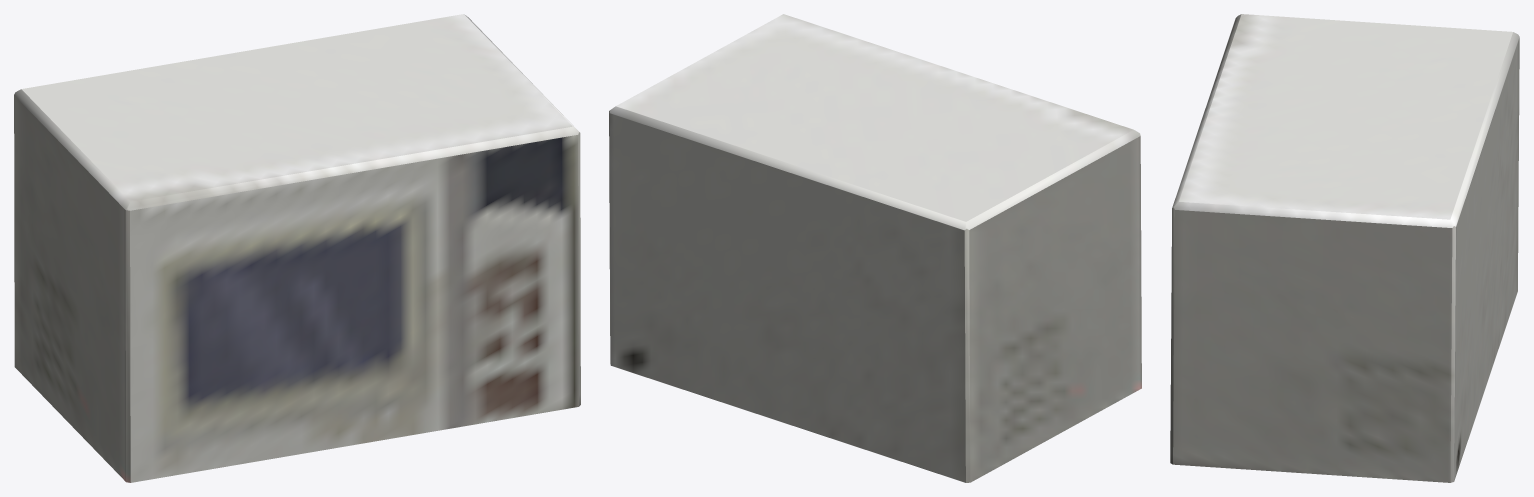
Rendered from PA_Microwave1.fbx.
3 renders of one model, left to right at view 1: azimuth 30°, elevation 25°; view 2: azimuth 150°, elevation 25°; view 3: azimuth 270°, elevation 25°, orthographic. The views are drawn at different scales.
Parts seen in each view (by area): view 1: TV; view 2: TV; view 3: TV.
Boxes of the visible parts, x1,y1,x2,y2 form: TV: (14, 14, 580, 482); TV: (609, 14, 1141, 482); TV: (1170, 14, 1519, 482).
Size of the model in its own units: 0.512 by 0.2991 by 0.3608.
